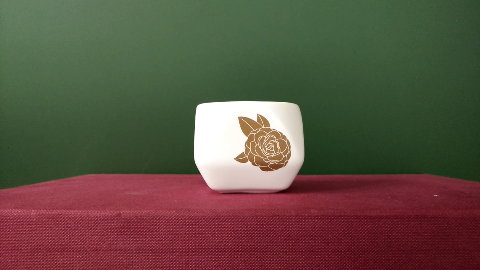flower: (232, 109, 293, 172)
